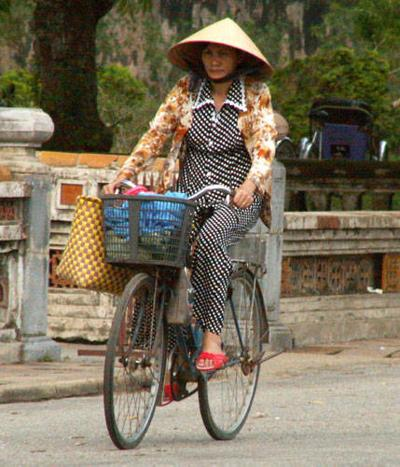person: (104, 21, 278, 402)
